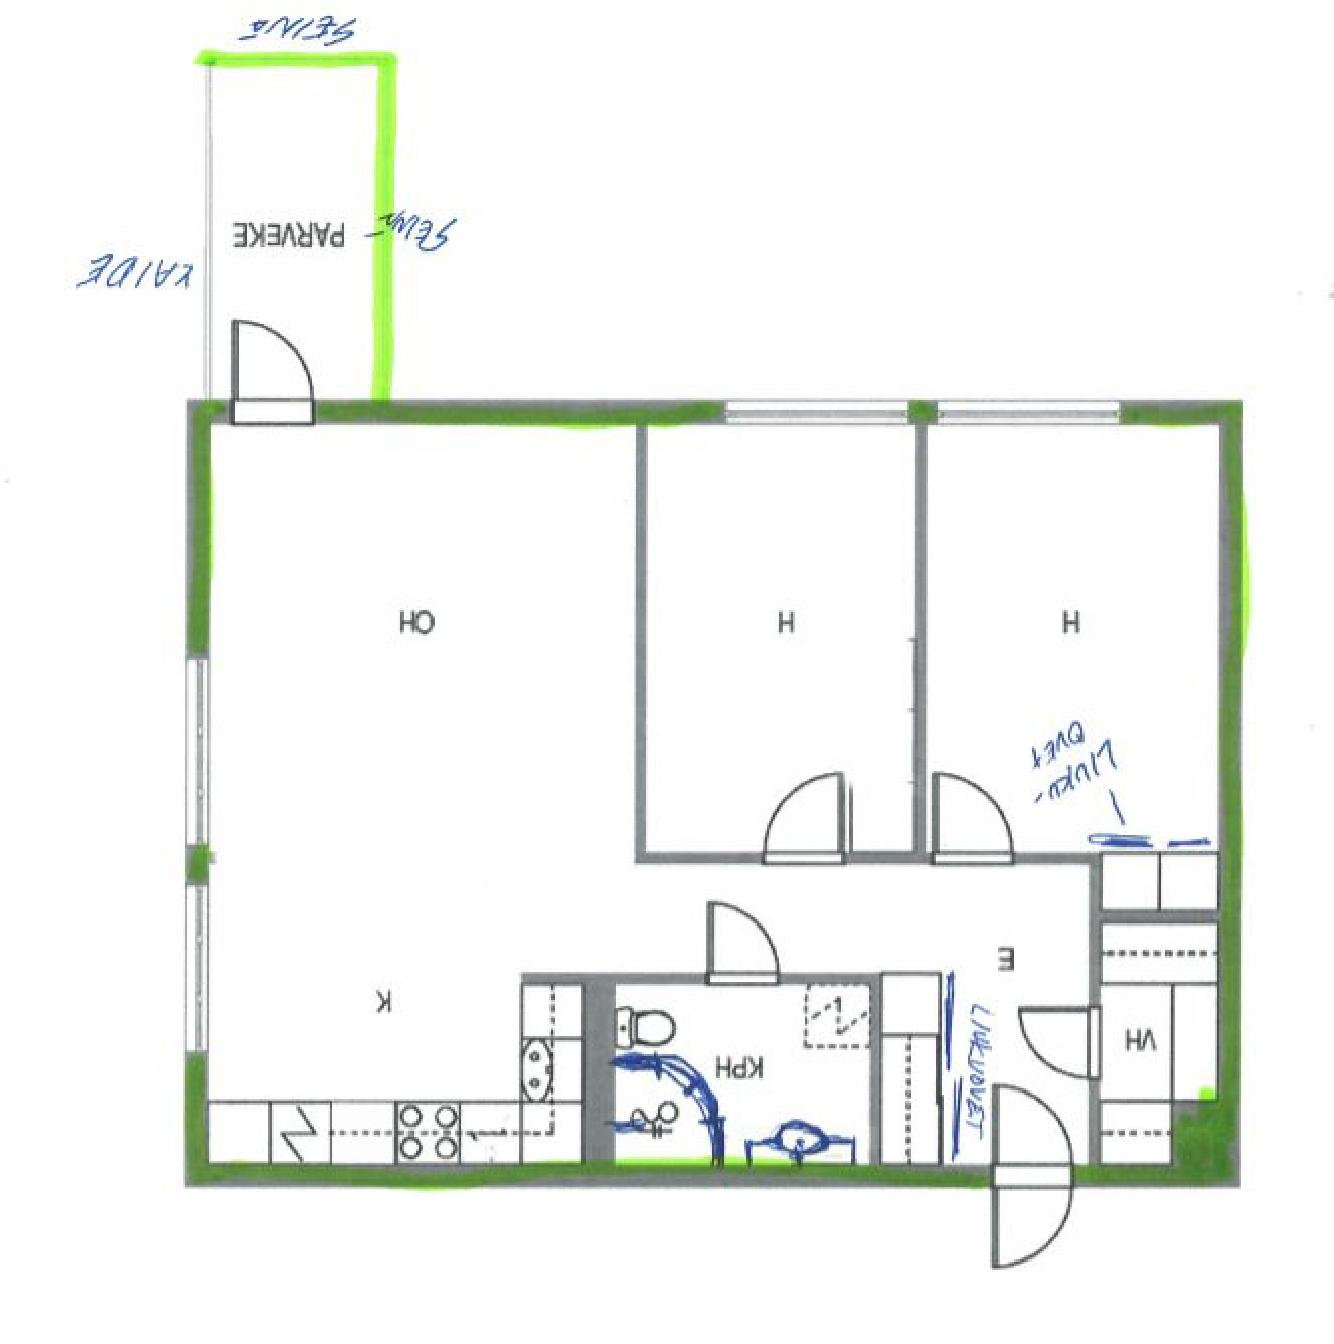door: (983, 1076, 1084, 1276), (220, 314, 331, 434), (696, 893, 801, 1013), (764, 755, 853, 867), (927, 770, 1018, 867), (1013, 1004, 1099, 1076)
window: (720, 391, 906, 426), (933, 397, 1114, 431), (181, 885, 216, 1058), (184, 655, 210, 843)
zone: (214, 424, 1084, 1164), (928, 424, 1213, 850), (643, 424, 917, 854), (206, 61, 371, 397), (610, 984, 866, 1160), (1097, 860, 1217, 1157)
